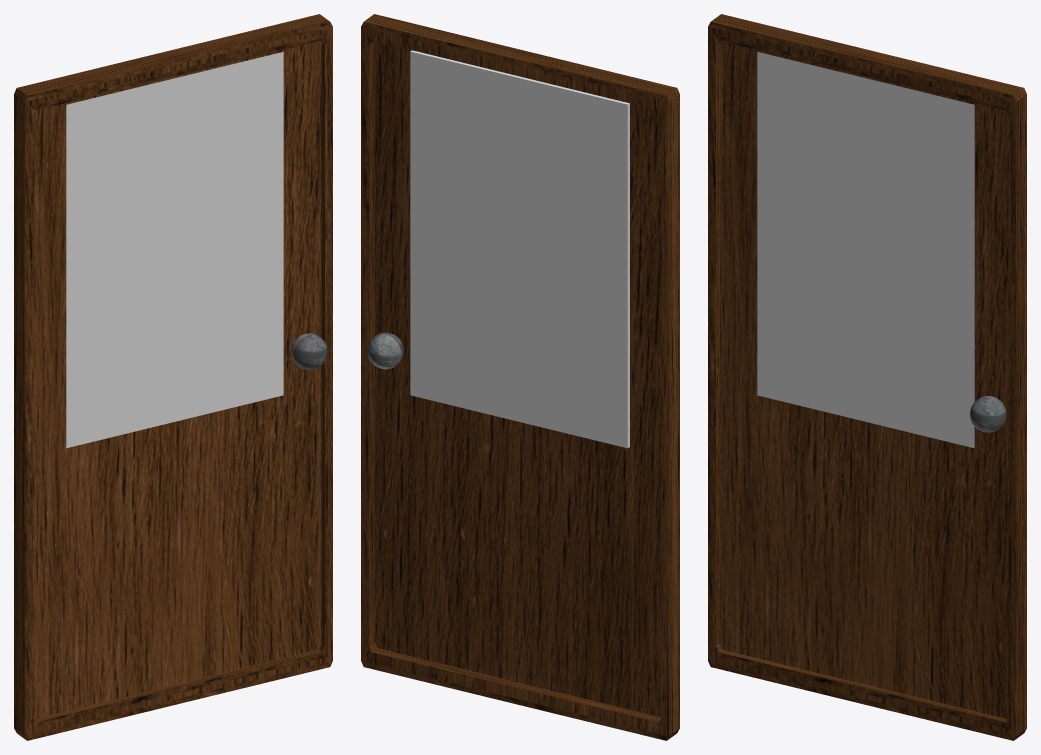
File: DOOR WITH MEDIUM WINDOW.glb
3 renders of one model, left to right at view 1: azimuth 30°, elevation 25°; view 2: azimuth 150°, elevation 25°; view 3: azimuth 330°, elevation 25°, orthographic.
Visible parts, largest first — view 1: DOOR, Cubo, SHEET METAL; view 2: DOOR, Cubo, SHEET METAL; view 3: DOOR, Cubo, SHEET METAL.
Boxes of the visible parts, x1,y1,x2,y2 form: DOOR: (14,14,332,740); Cubo: (66,52,283,448); SHEET METAL: (291,333,327,369); DOOR: (361,14,679,740); Cubo: (410,50,629,448); SHEET METAL: (367,332,403,369); DOOR: (708,14,1026,740); Cubo: (757,52,974,448); SHEET METAL: (970,396,1006,432).
Bounding box in the file's own units: 4.03 × 8.07 × 0.7322.
3 materials, 2 textured.
